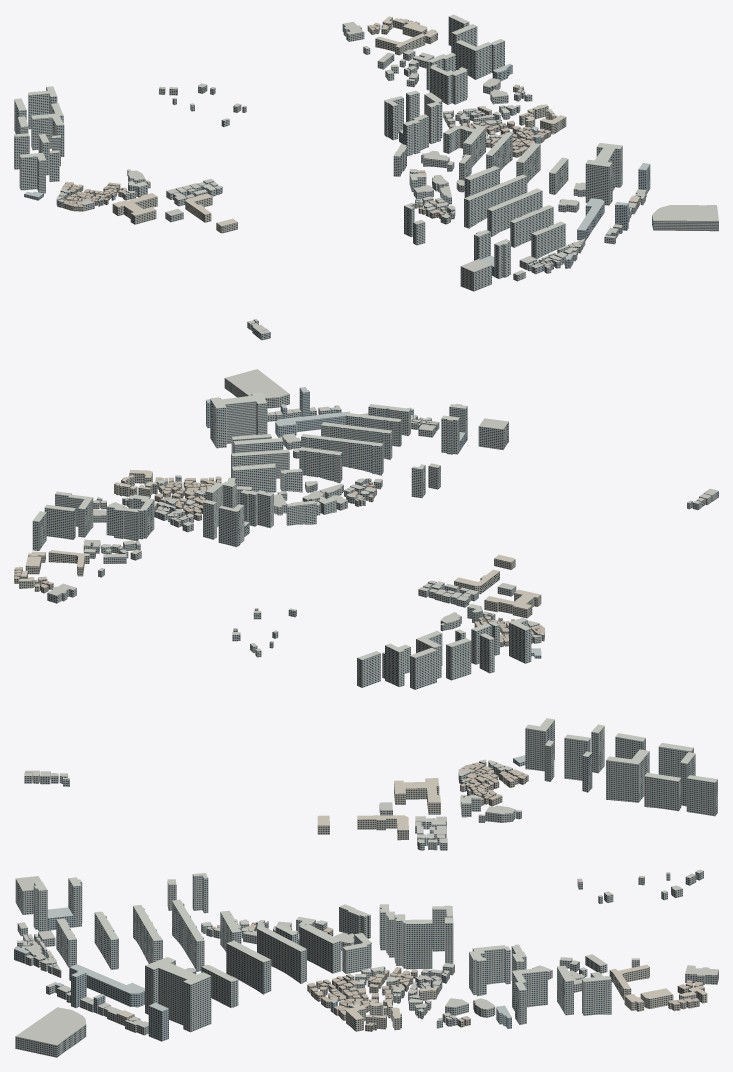
Rendered from city_2_-5.glb.
The picture shows the model from 3 angles, top to bottom: view 1: azimuth 30°, elevation 25°; view 2: azimuth 150°, elevation 25°; view 3: azimuth 270°, elevation 25°; orthographic projection. The views are drawn at different scales.
Bounding box in the file's own units: 1042 × 95.76 × 1032.
5 materials, 5 textured.
